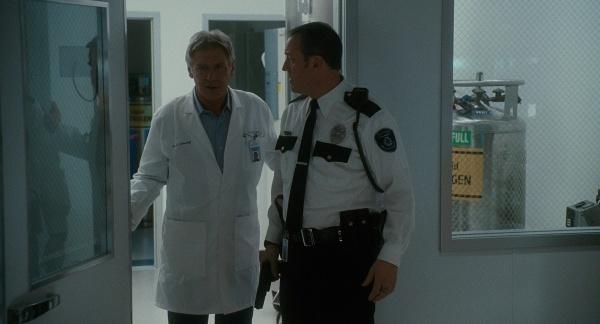Gun: (253, 259, 282, 311)
